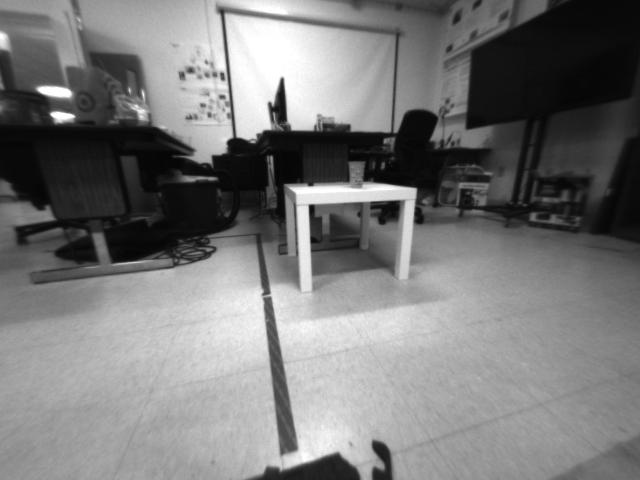coffee_cup: (345, 158, 367, 187)
